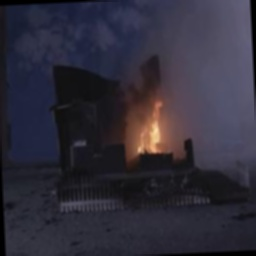fire: (124, 91, 176, 156)
smoke: (178, 0, 254, 123)
